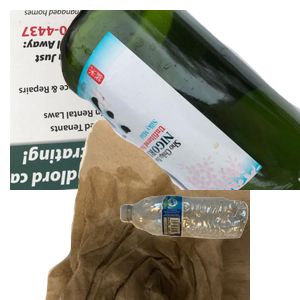glass: (60, 10, 300, 190)
paper: (10, 10, 201, 190)
plastic: (118, 193, 300, 300)
trash: (43, 120, 283, 300)
